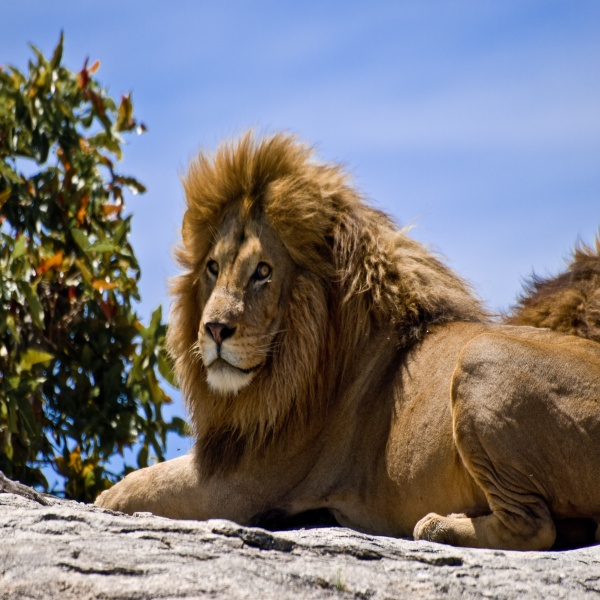Lion: (92, 128, 600, 554)
